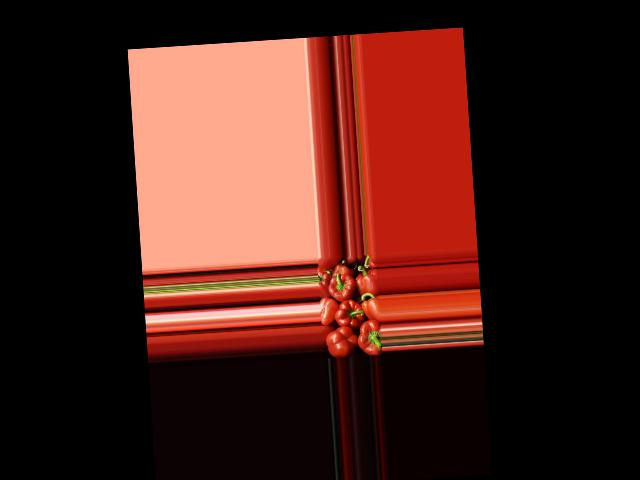bell_pepper: (320, 297, 337, 326)
